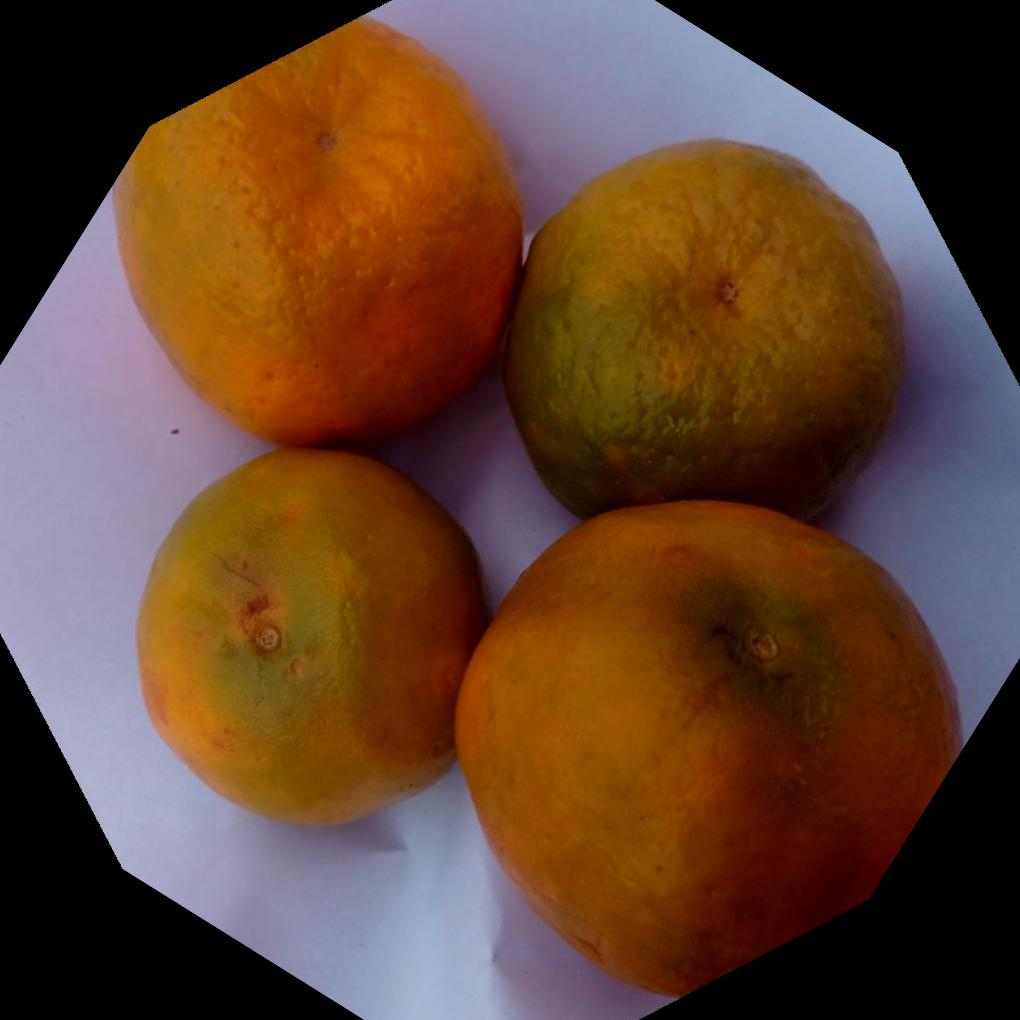FreshGuava: (110, 12, 961, 990)
